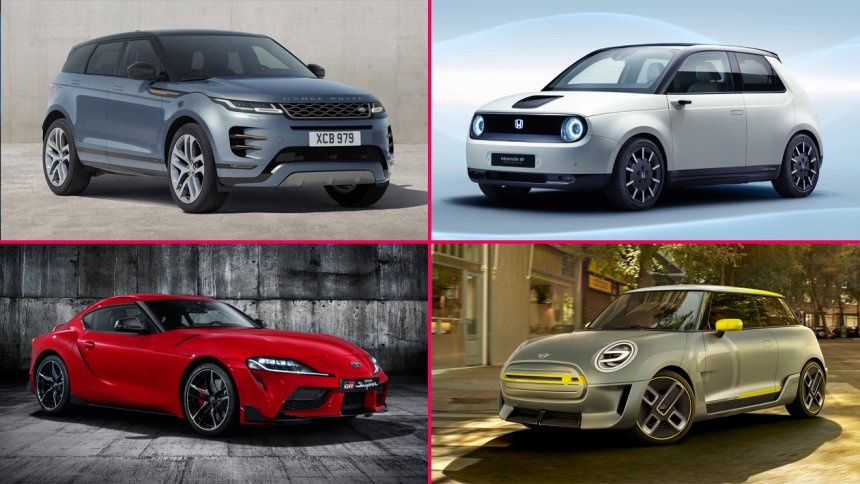car: (37, 29, 395, 208), (469, 39, 819, 200), (493, 281, 832, 441), (30, 293, 393, 436)
